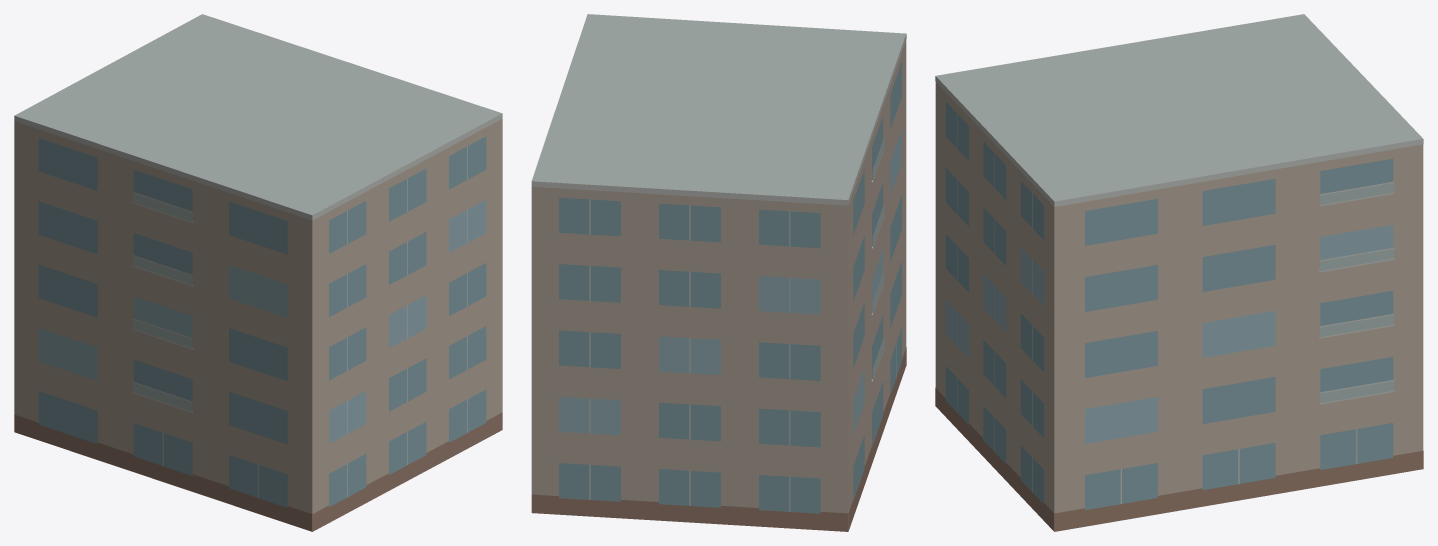
The model's file is survey-upis-32592886.glb.
3 views of the same model, side by side, from view 1: azimuth 30°, elevation 25°; view 2: azimuth 150°, elevation 25°; view 3: azimuth 270°, elevation 25° (orthographic). The views are drawn at different scales.
Visible parts, largest first — view 1: survey-upis-32592886.tmp; view 2: survey-upis-32592886.tmp; view 3: survey-upis-32592886.tmp.
Part boxes in pixels (bbox=[...]): survey-upis-32592886.tmp: bbox=[14, 14, 502, 531]; survey-upis-32592886.tmp: bbox=[531, 14, 906, 531]; survey-upis-32592886.tmp: bbox=[935, 14, 1423, 531].
Bounding box in the file's own units: 18.05 × 14.8 × 19.83.
